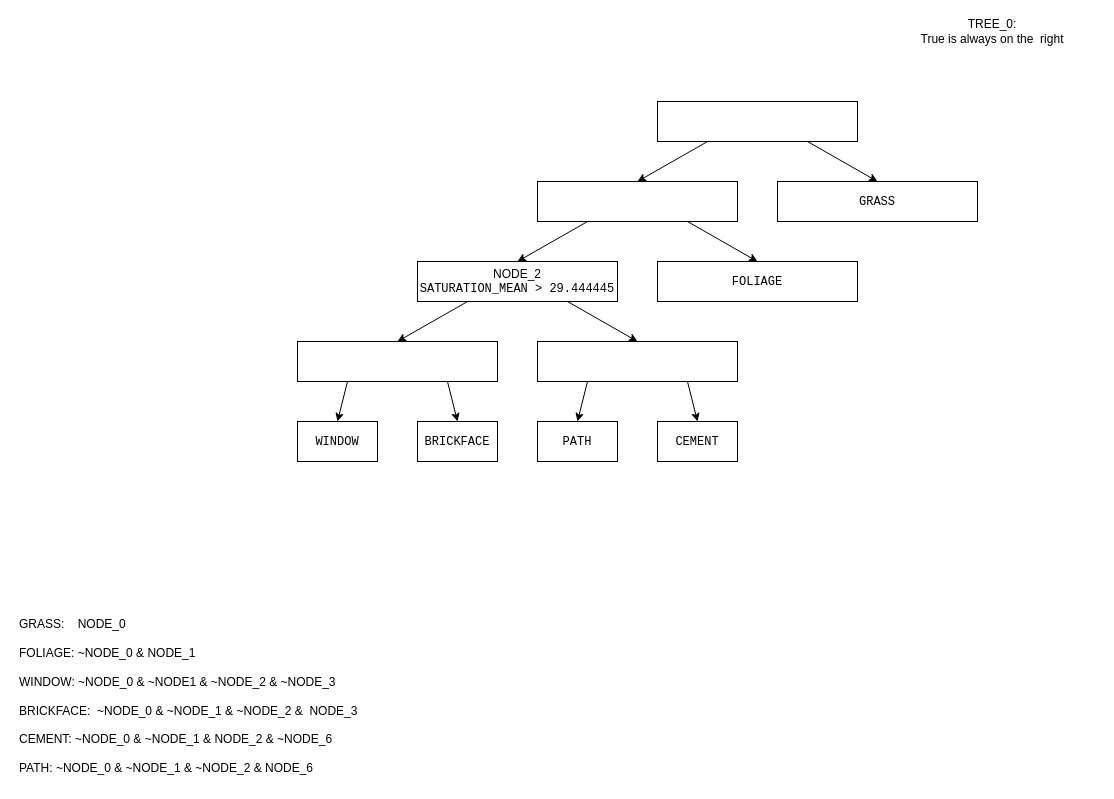
This 1114x799 diagram has some shape labels left out. The box of each missing label's shape, as (x1, y1, x2, y2) in pixels:
NODE_0 Col19 > 1.09646775: (656, 100, 858, 142)
NODE_1 HUE_MEAN > 0.65174432: (536, 180, 738, 222)
NODE_3 RAWBLUE_MEAN > 6.22222215: (296, 340, 498, 382)
NODE_6 Col19 > -2.0482689: (536, 340, 738, 382)
